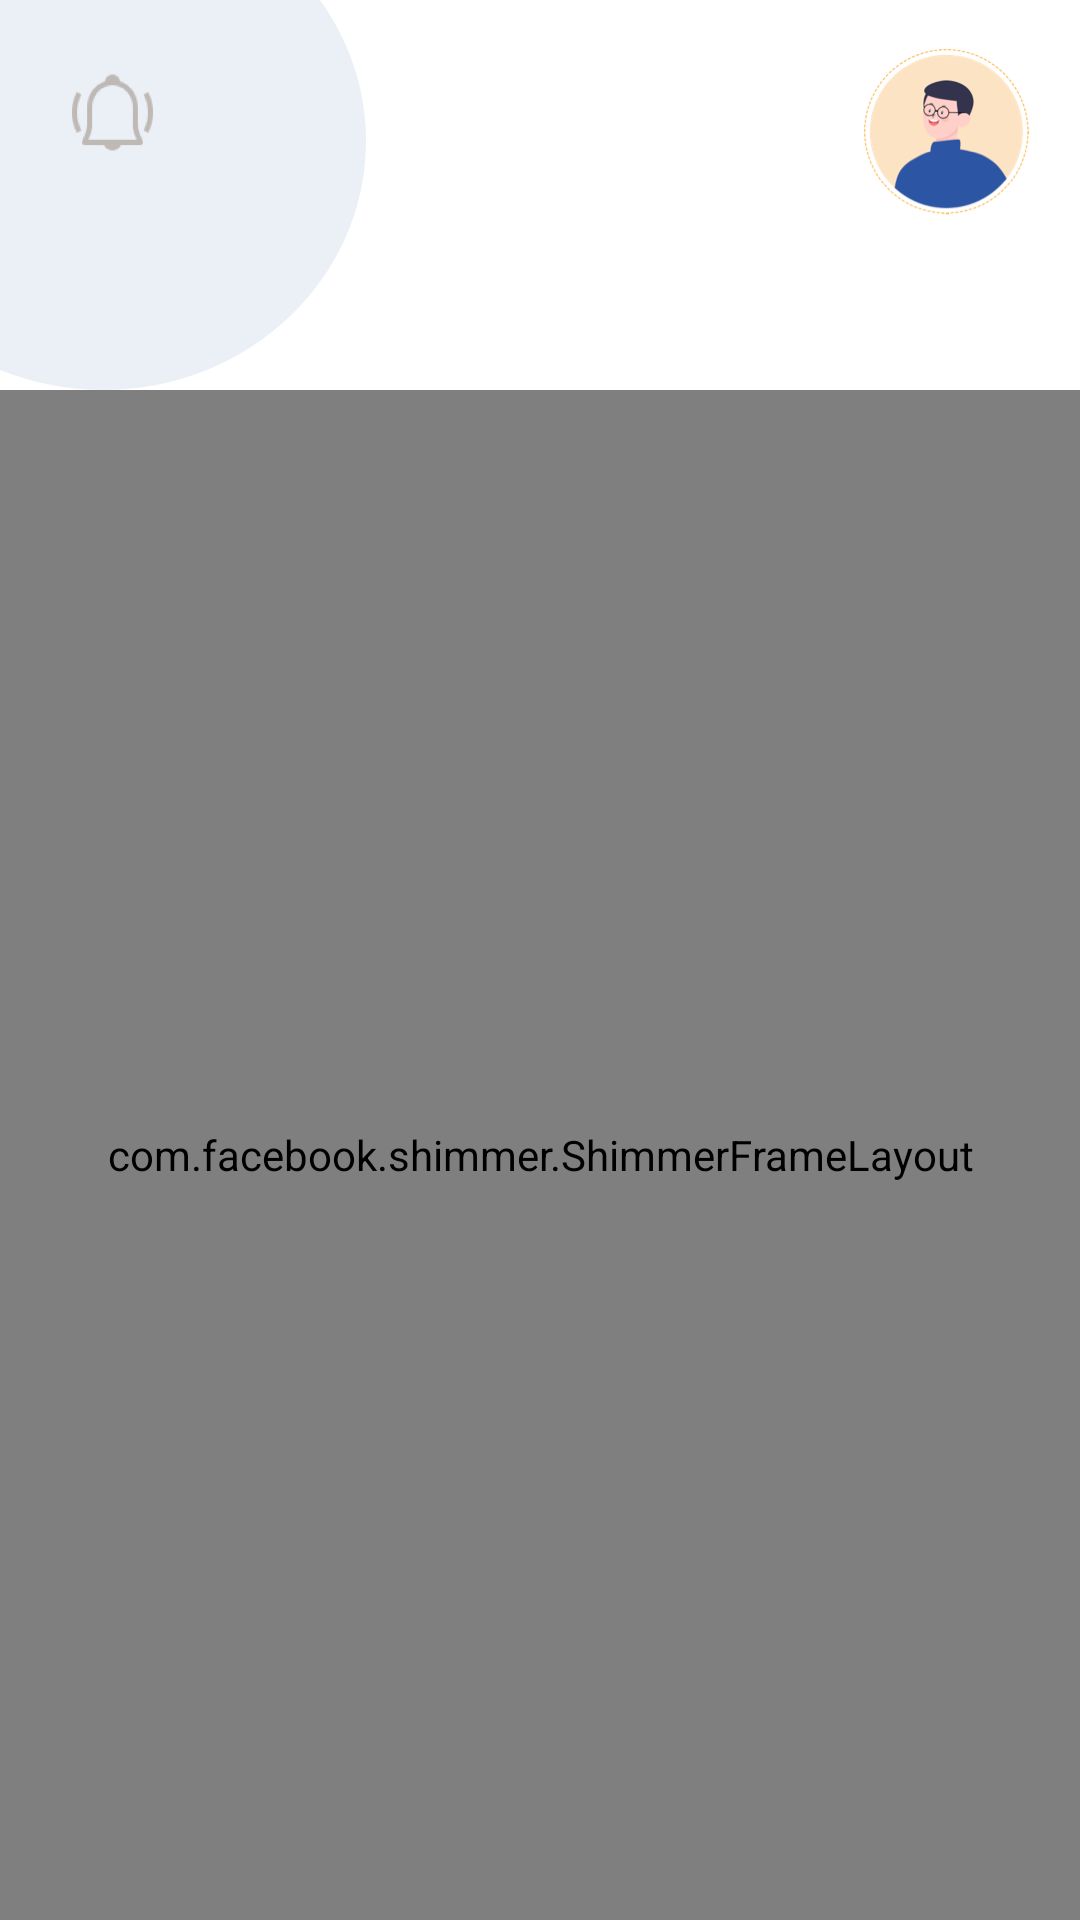

Screen size 1080w x 1920h. Icon name, then its center in pixels as [x,y]:
prodileavatar: [946,132]
